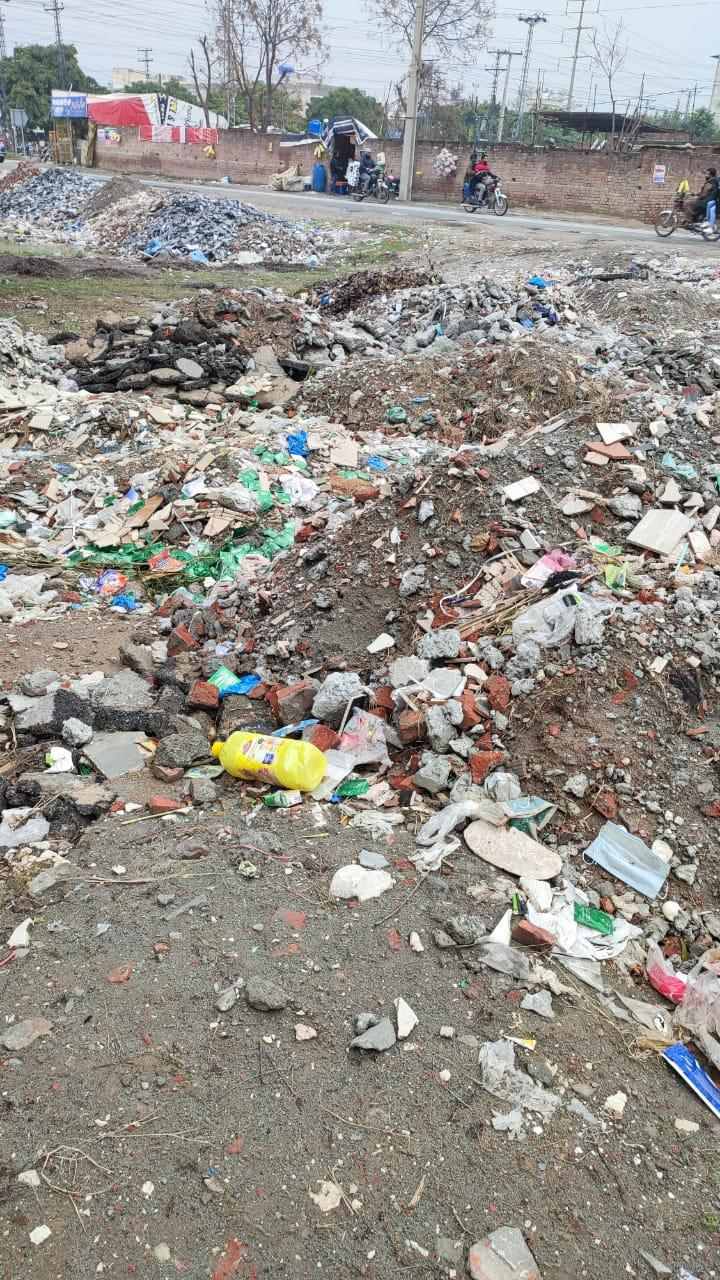garbage: (26, 243, 720, 1075)
